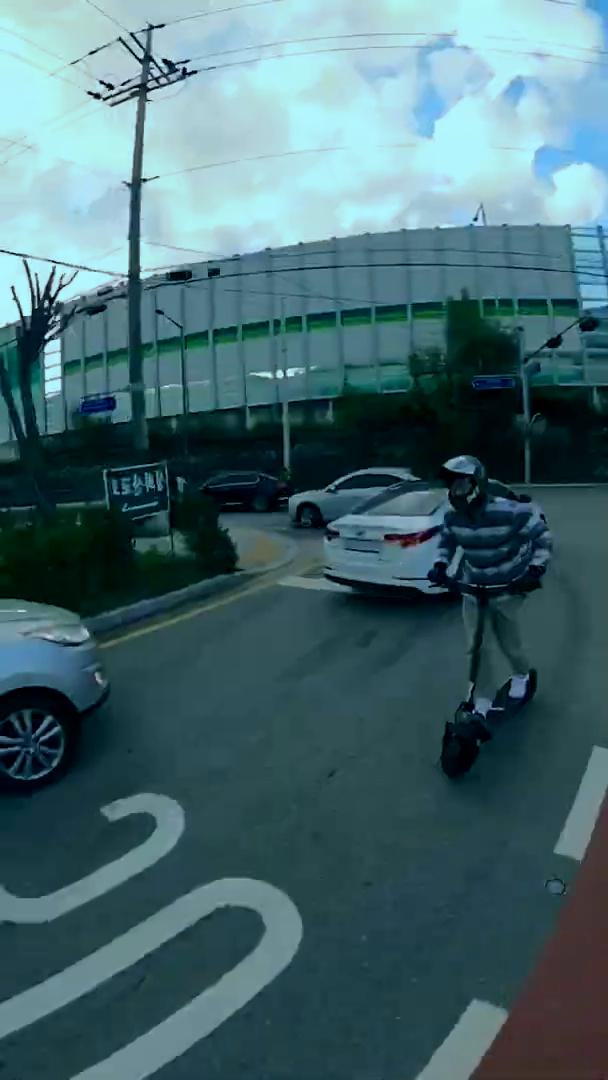helmet: (422, 449, 557, 783)
